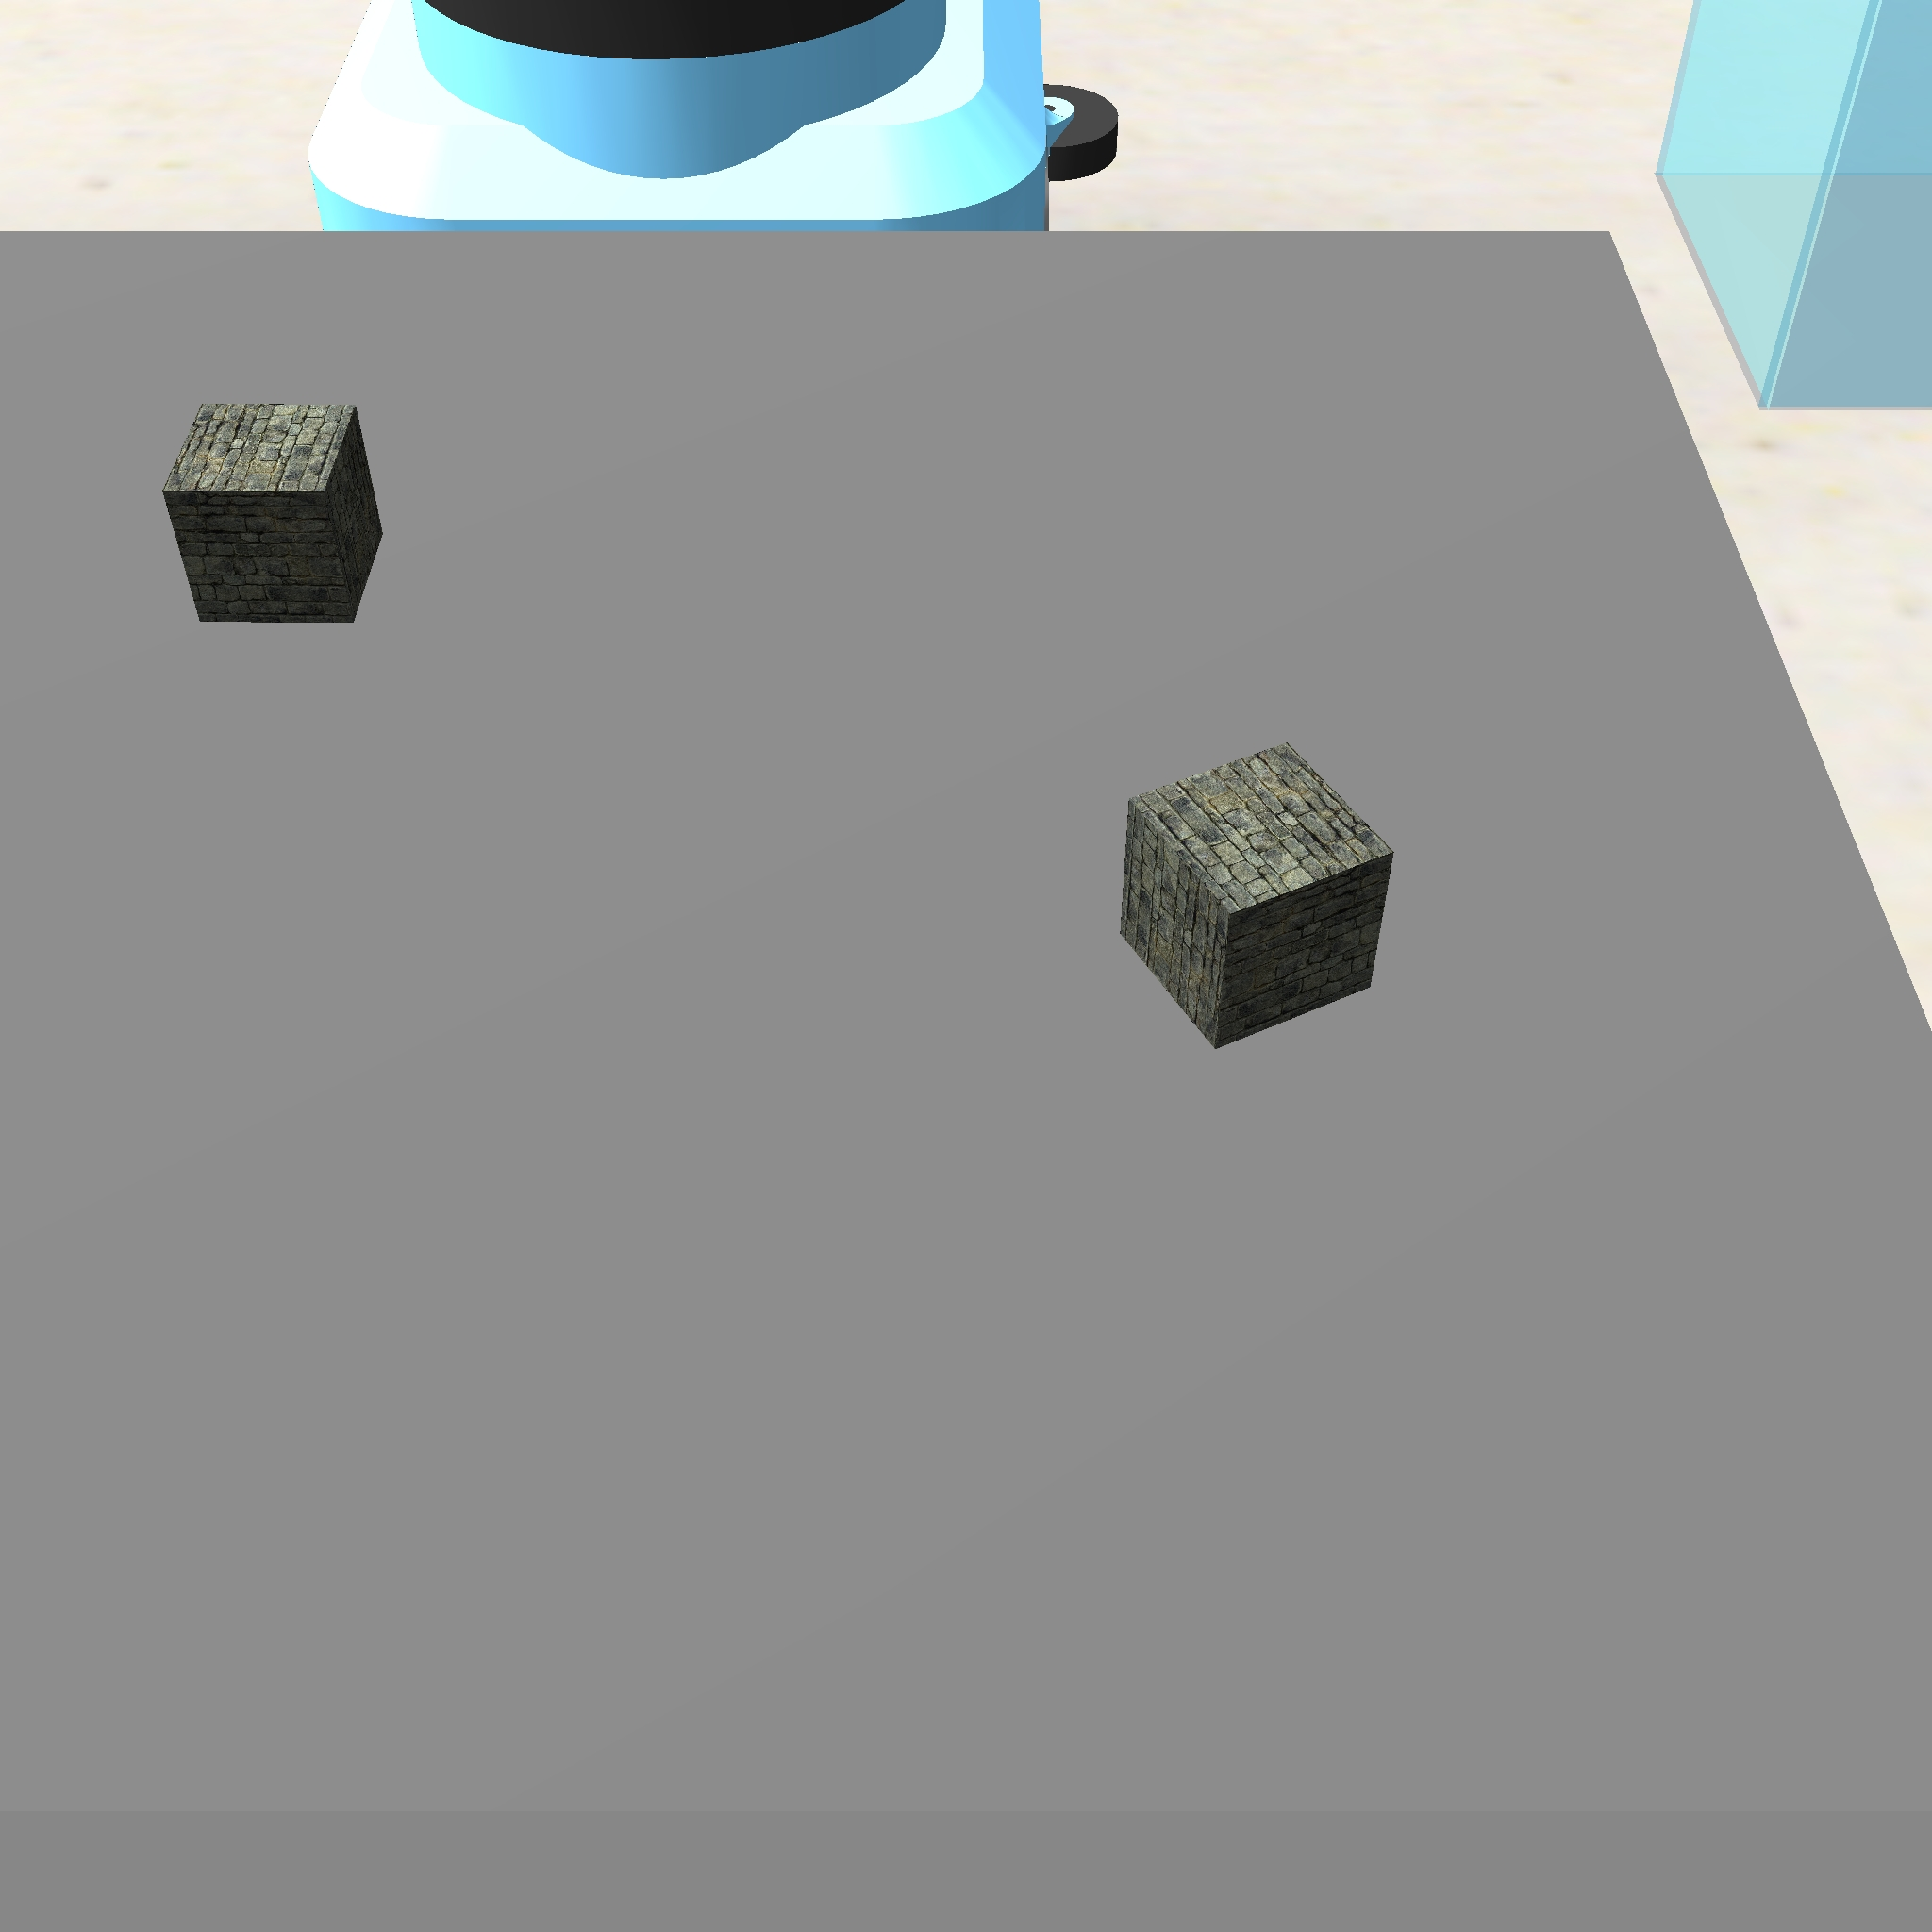cube: (1113, 731, 1405, 1058), (156, 395, 395, 635)
